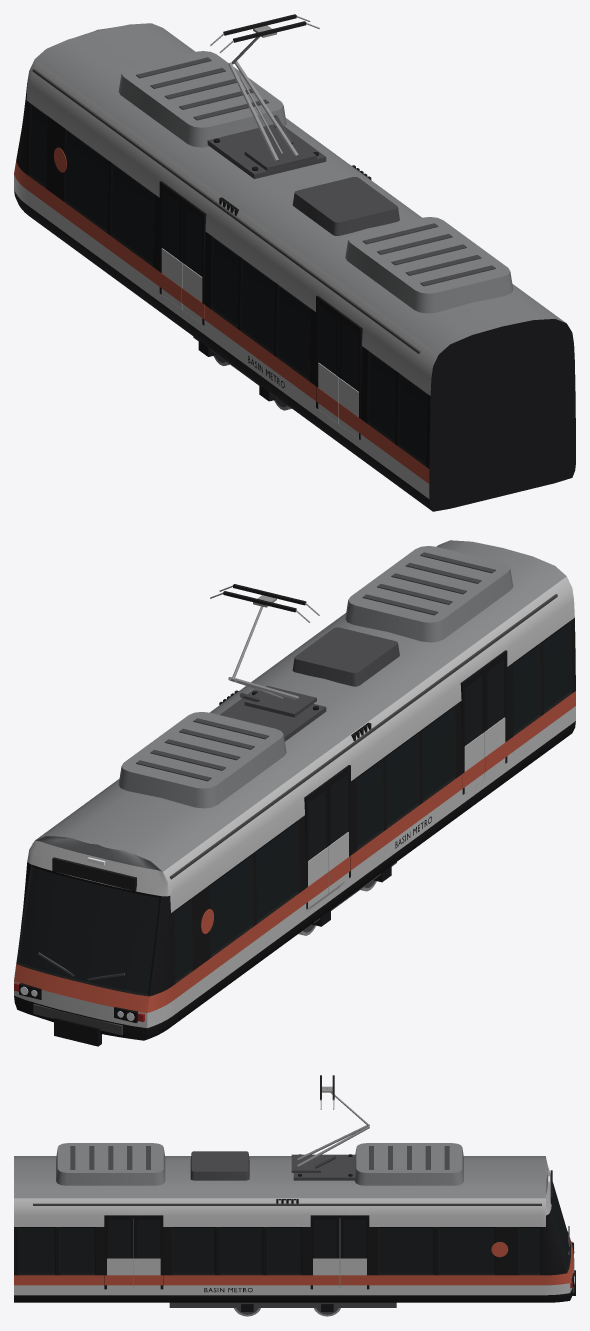
The model's file is light_rail_car.glb.
The picture shows the model from 3 angles, top to bottom: view 1: azimuth 30°, elevation 25°; view 2: azimuth 150°, elevation 25°; view 3: azimuth 270°, elevation 25°; orthographic projection. The views are drawn at different scales.
Parts seen in each view (by area): view 1: Body, Pantograph, DoorsL, Door_L_0_B, Door_L_1_A, Door_L_1_B, Door_L_0_A; view 2: Body, DoorsL, Pantograph, Door_L_0_A, Door_L_1_A, Door_L_0_B, Door_L_1_B; view 3: Body, DoorsR, Door_R_0_A, Door_R_1_A, Door_R_0_B, Door_R_1_B, Pantograph, Bogie.
Part boxes in pixels (left/top/right/bottom): Body: left=14, top=23, right=575, bottom=511; Pantograph: left=210, top=14, right=319, bottom=171; DoorsL: left=159, top=193, right=358, bottom=436; Door_L_0_B: left=316, top=301, right=338, bottom=423; Door_L_1_A: left=182, top=197, right=205, bottom=323; Door_L_1_B: left=161, top=187, right=183, bottom=308; Door_L_0_A: left=338, top=318, right=361, bottom=438; Body: left=14, top=540, right=575, bottom=1046; DoorsL: left=306, top=652, right=505, bottom=907; Pantograph: left=210, top=584, right=319, bottom=717; Door_L_0_A: left=483, top=650, right=507, bottom=778; Door_L_1_A: left=327, top=765, right=350, bottom=891; Door_L_0_B: left=461, top=667, right=484, bottom=791; Door_L_1_B: left=305, top=781, right=328, bottom=902; Body: left=14, top=1143, right=575, bottom=1307; DoorsR: left=104, top=1215, right=369, bottom=1289; Door_R_0_A: left=104, top=1215, right=133, bottom=1289; Door_R_1_A: left=310, top=1215, right=339, bottom=1289; Door_R_0_B: left=134, top=1215, right=162, bottom=1288; Door_R_1_B: left=340, top=1215, right=369, bottom=1289; Pantograph: left=291, top=1075, right=369, bottom=1172; Bogie: left=232, top=1302, right=341, bottom=1316.
Bounding box in the file's own units: 2.67 × 5.65 × 13.36.
